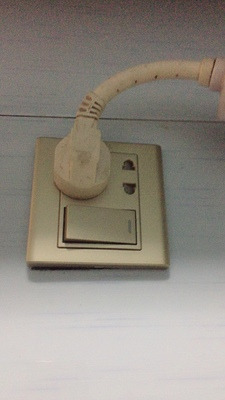switch: (59, 201, 142, 249)
